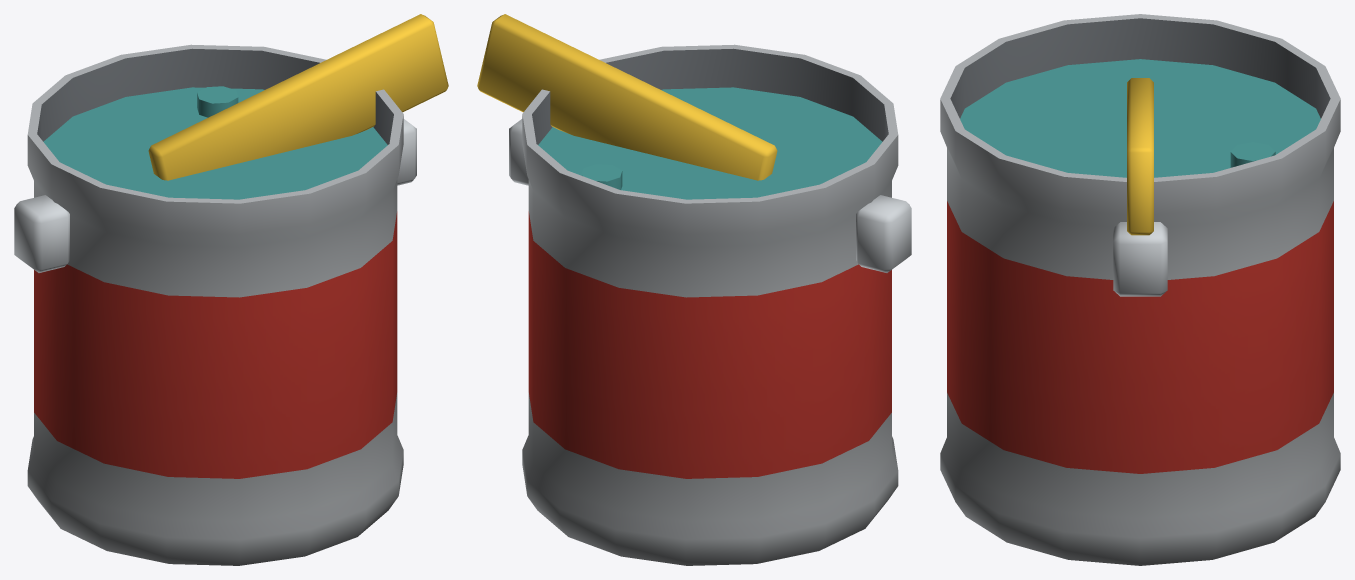
The model's file is SM_PaintCan_Open_01.glb.
3 renders of one model, left to right at view 1: azimuth 30°, elevation 25°; view 2: azimuth 150°, elevation 25°; view 3: azimuth 270°, elevation 25°, orthographic. The views are drawn at different scales.
Parts seen in each view (by area): view 1: SM_PaintCan_Open_01; view 2: SM_PaintCan_Open_01; view 3: SM_PaintCan_Open_01.
Part boxes in pixels (x1=…): SM_PaintCan_Open_01: x1=14, y1=14, x2=448, y2=565; SM_PaintCan_Open_01: x1=477, y1=14, x2=911, y2=565; SM_PaintCan_Open_01: x1=940, y1=14, x2=1340, y2=565.
Size of the model in its own units: 0.2281 by 0.219 by 0.178.
1 material, 1 textured.
